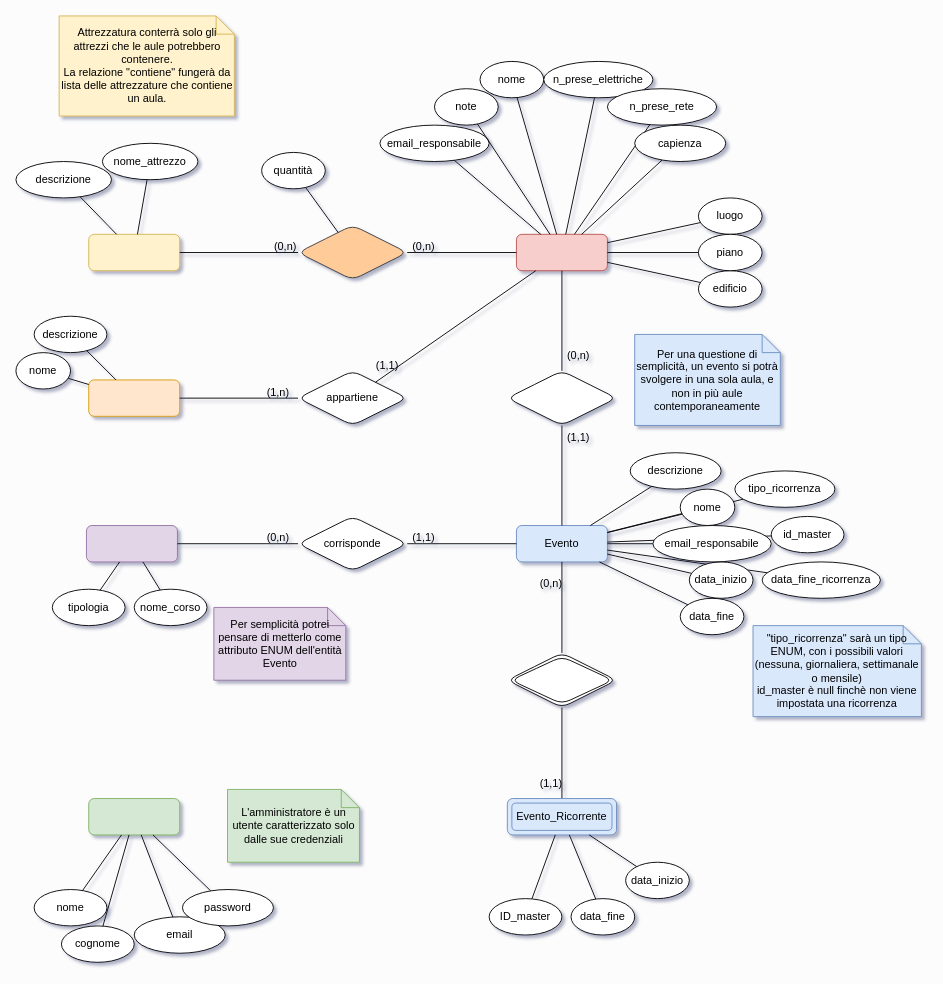
Image size: 943x984. Some labels were removed from this diagram. Each missing label, with the centre of its shape:
Amministratore: the point at 134,816
associato: the point at 561,680
Attrezzatura: the point at 134,252
Aula: the point at 561,252
contiene: the point at 352,252
Gruppo: the point at 134,397
svolge: the point at 561,397
Tipologia_Evento: the point at 131,543
